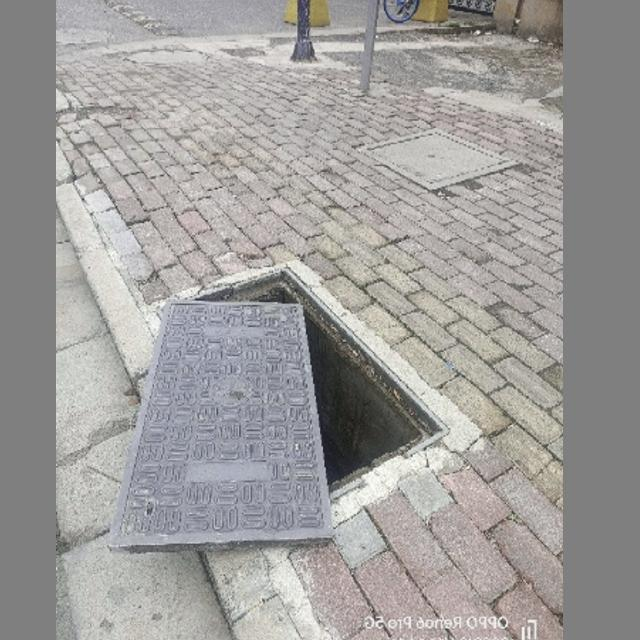good: (356, 128, 524, 192)
uncovered: (110, 253, 480, 555)
